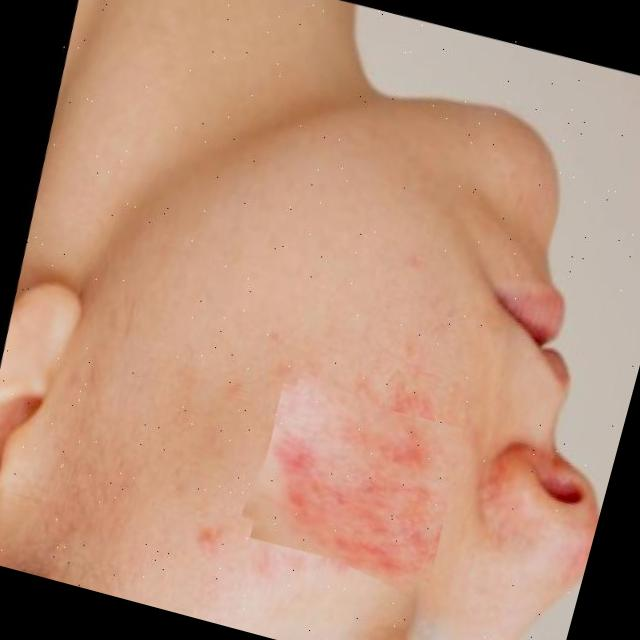redness: (263, 403, 424, 573)
